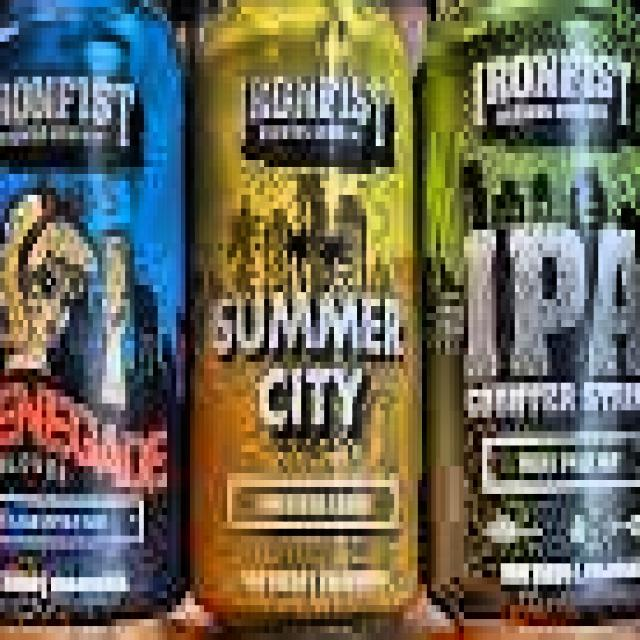metal: (176, 0, 422, 640), (417, 0, 640, 640), (0, 0, 190, 640)
